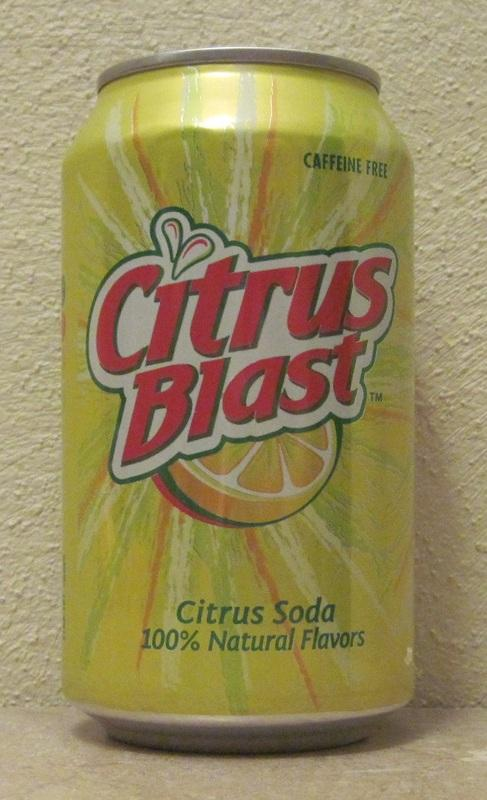can: (51, 39, 420, 760)
